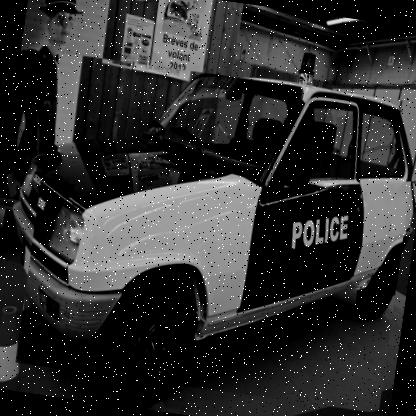Car: (15, 51, 415, 414), (167, 0, 190, 20)
